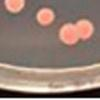pink: (56, 21, 81, 48), (31, 5, 58, 28), (75, 16, 97, 43), (1, 0, 28, 16)
